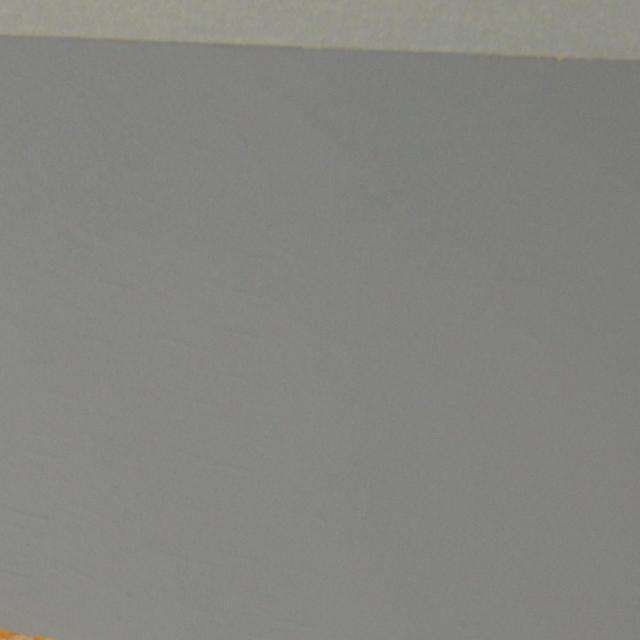dañado: (0, 623, 72, 640)
